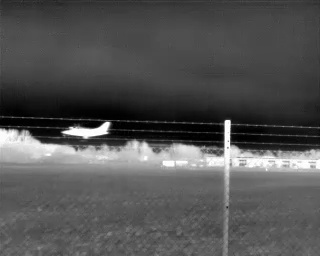AIRPLANE: (60, 118, 113, 143)
